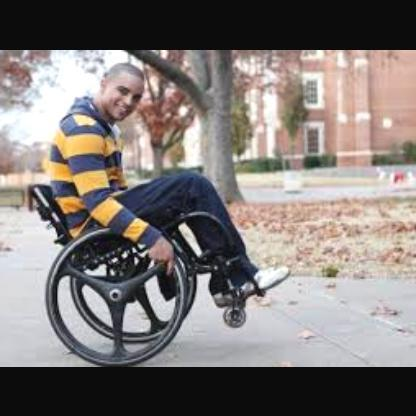wheelchair: (32, 63, 291, 367)
